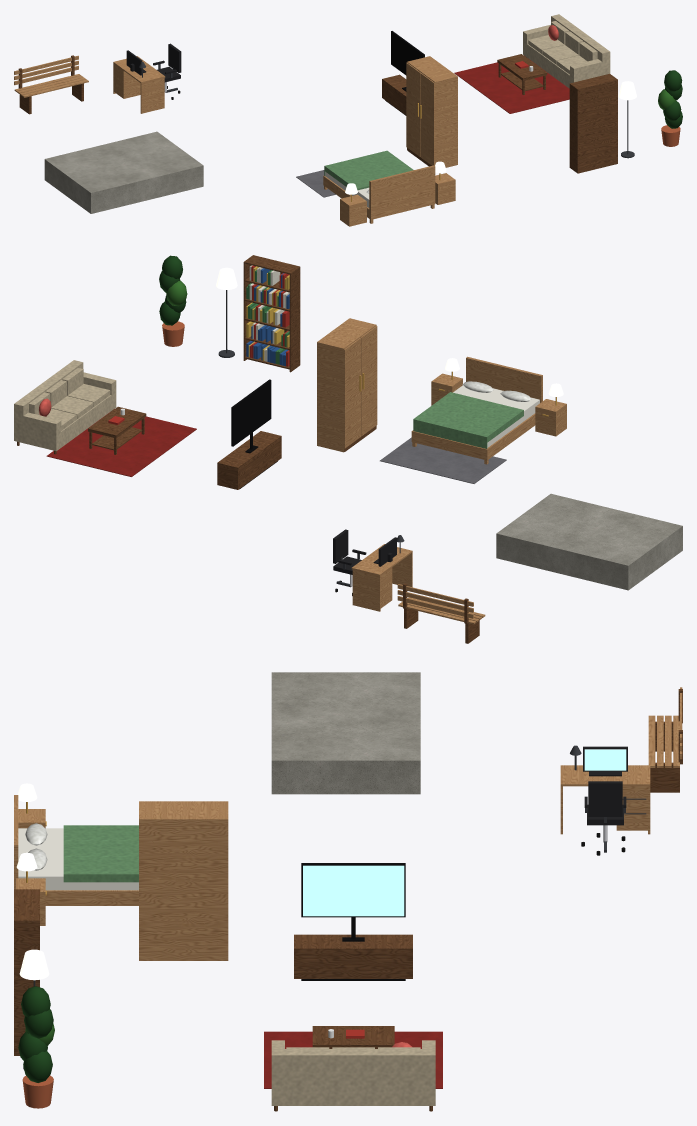
File: i_bali_villa.gltf
3 views of the same model, one above another, from view 1: azimuth 30°, elevation 25°; view 2: azimuth 150°, elevation 25°; view 3: azimuth 270°, elevation 25° (orthographic). The views are drawn at different scales.
Visible parts, largest first — view 1: I_bali_villa; view 2: I_bali_villa; view 3: I_bali_villa.
Boxes of the visible parts, <box> form: I_bali_villa: <box>14,14,682,226</box>; I_bali_villa: <box>14,255,682,643</box>; I_bali_villa: <box>14,672,682,1111</box>.
Size of the model in its own units: 12.9 by 2.1 by 8.97.
Materials: 29 (10 with a texture image).
